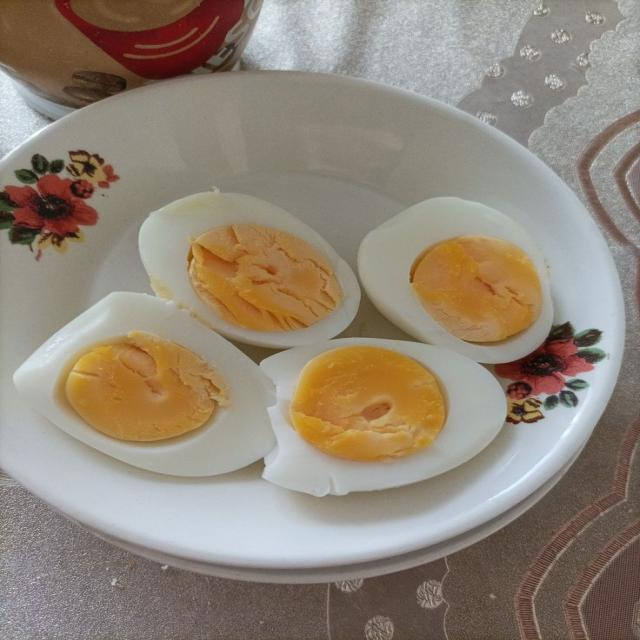eggs: (24, 194, 577, 506)
